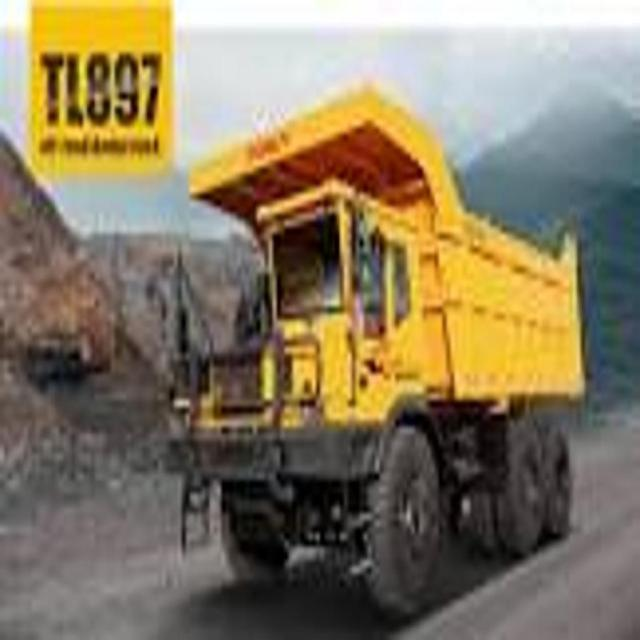dump_truck: (191, 83, 586, 616)
